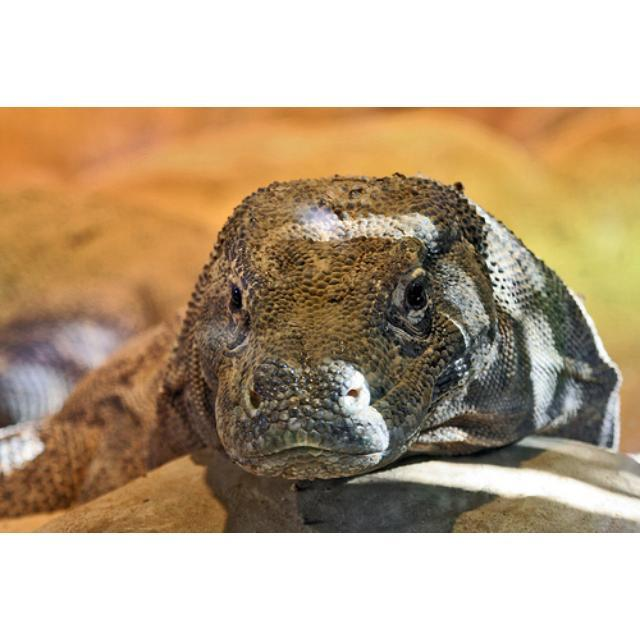KomodoDragon: (1, 168, 616, 520)
